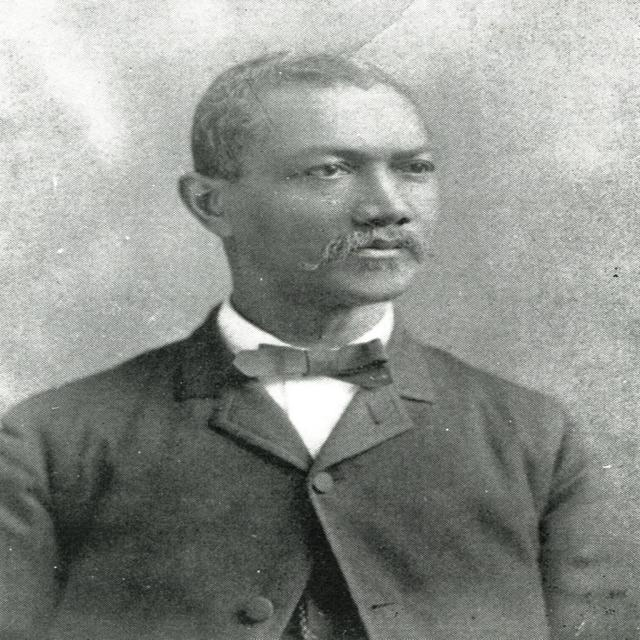nomask: (244, 100, 440, 298)
